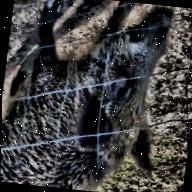boar: (0, 0, 174, 192)
